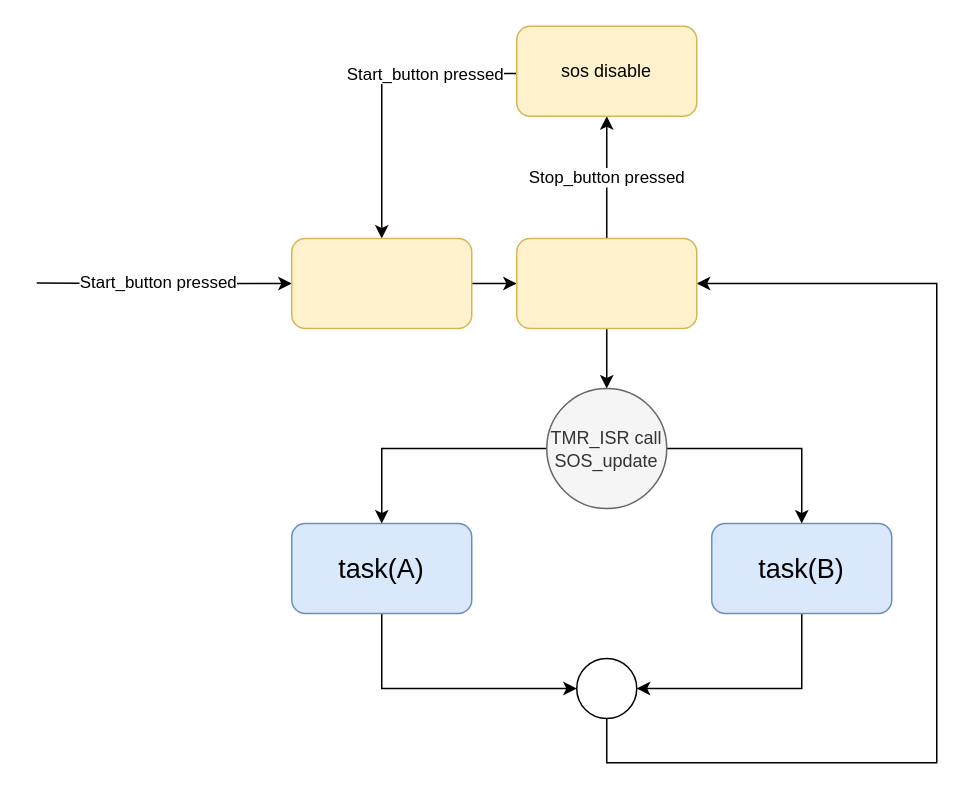
The diagram is 975 pixels wide and 801 high, and some of its shapes have lost their labels. The centre of each missing label's shape, as x and y in pixels:
"sos dispatcher" belongs at (606,282).
"sos run" belongs at (381,282).
